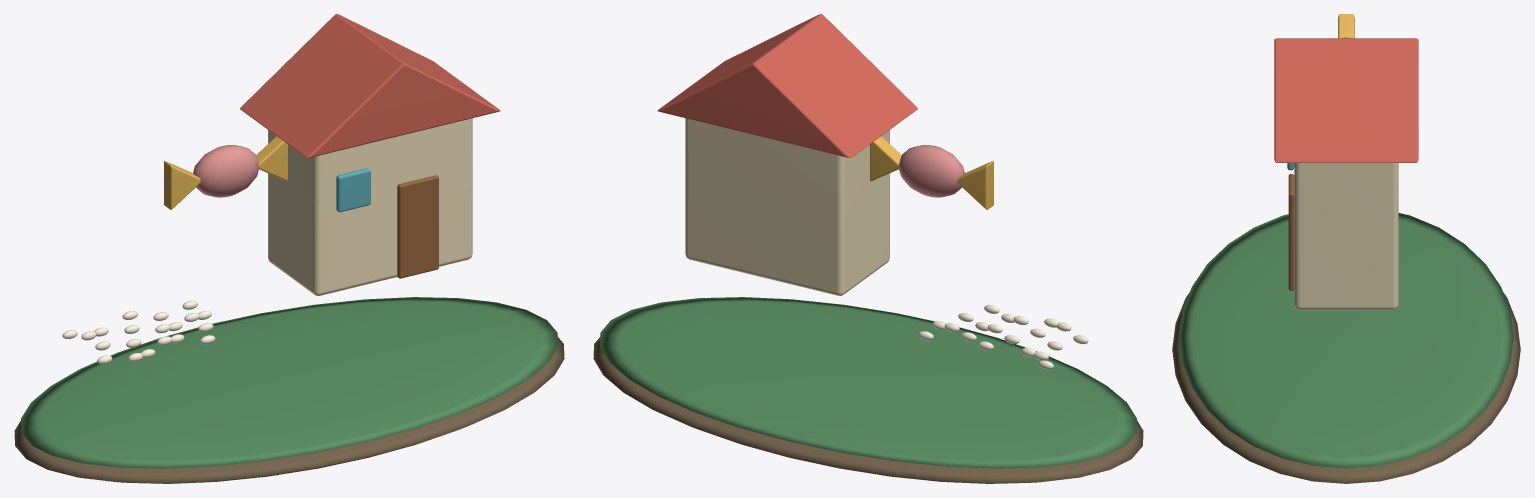
Rendered from rice-candy.glb.
The picture shows the model from 3 angles, left to right: view 1: azimuth 30°, elevation 25°; view 2: azimuth 150°, elevation 25°; view 3: azimuth 270°, elevation 25°; orthographic projection. The views are drawn at different scales.
Visible parts, largest first — view 1: rice-candy_surface_01, rice-candy_surface_03, rice-candy_surface_04, rice-candy_surface_00, rice-candy_surface_05, rice-candy_surface_07, rice-candy_surface_02, rice-candy_surface_08, rice-candy_surface_06; view 2: rice-candy_surface_01, rice-candy_surface_03, rice-candy_surface_04, rice-candy_surface_00, rice-candy_surface_07, rice-candy_surface_02, rice-candy_surface_08; view 3: rice-candy_surface_01, rice-candy_surface_04, rice-candy_surface_03, rice-candy_surface_00, rice-candy_surface_05, rice-candy_surface_08.
Part boxes in pixels (left/top/right/bottom): rice-candy_surface_01: left=21, top=297, right=557, bottom=468; rice-candy_surface_03: left=268, top=118, right=472, bottom=295; rice-candy_surface_04: left=240, top=14, right=500, bottom=158; rice-candy_surface_00: left=14, top=337, right=564, bottom=483; rice-candy_surface_05: left=397, top=175, right=438, bottom=278; rice-candy_surface_07: left=193, top=145, right=259, bottom=197; rice-candy_surface_02: left=62, top=300, right=215, bottom=364; rice-candy_surface_08: left=164, top=136, right=287, bottom=209; rice-candy_surface_06: left=336, top=168, right=370, bottom=212; rice-candy_surface_01: left=600, top=297, right=1136, bottom=468; rice-candy_surface_03: left=685, top=118, right=889, bottom=295; rice-candy_surface_04: left=657, top=14, right=917, bottom=158; rice-candy_surface_00: left=593, top=337, right=1143, bottom=483; rice-candy_surface_07: left=898, top=145, right=964, bottom=197; rice-candy_surface_02: left=918, top=305, right=1088, bottom=369; rice-candy_surface_08: left=870, top=136, right=993, bottom=209; rice-candy_surface_01: left=1179, top=213, right=1513, bottom=468; rice-candy_surface_04: left=1274, top=38, right=1418, bottom=162; rice-candy_surface_03: left=1294, top=163, right=1398, bottom=310; rice-candy_surface_00: left=1172, top=292, right=1520, bottom=483; rice-candy_surface_05: left=1288, top=174, right=1294, bottom=290; rice-candy_surface_08: left=1338, top=14, right=1354, bottom=38.
Bounding box in the file's own units: 4.56 × 2.92 × 2.5.
